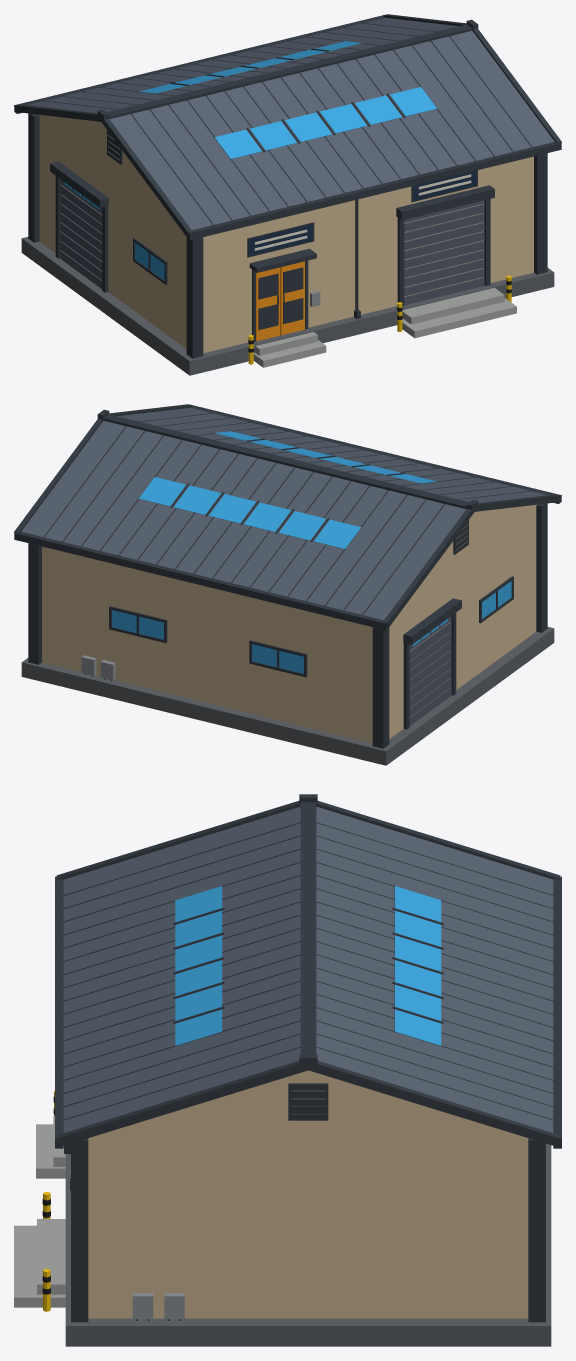
The model's file is mills q5 warehouse b.fbx.
3 renders of one model, top to bottom at view 1: azimuth 30°, elevation 25°; view 2: azimuth 150°, elevation 25°; view 3: azimuth 270°, elevation 25°, orthographic. The views are drawn at different scales.
Parts seen in each view (by area): view 1: Door_Leaf_-1; view 2: Door_Leaf_-1; view 3: Door_Leaf_-1.
Boxes of the visible parts, bbox=[...] form: Door_Leaf_-1: bbox=[14, 14, 561, 375]; Door_Leaf_-1: bbox=[14, 404, 561, 765]; Door_Leaf_-1: bbox=[14, 794, 561, 1346].
Size of the model in its own units: 1282 by 662 by 1126.
